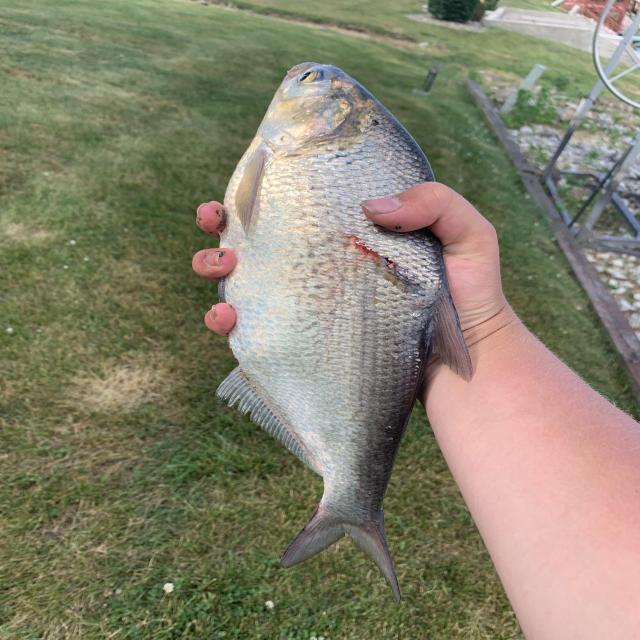Shad - American: (198, 62, 470, 597)
